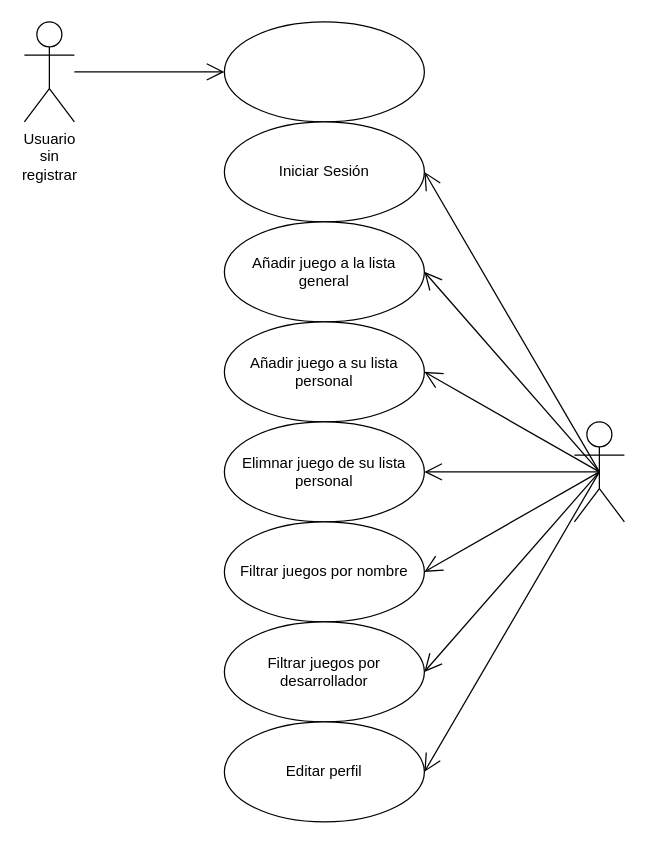
Some shapes in this 654 by 844 pixel diagram are drawn without their labels. Each missing label, with the centre of its shape:
"Registrarse" goes at point (323, 71).
"Usuario registrado" goes at point (598, 471).
